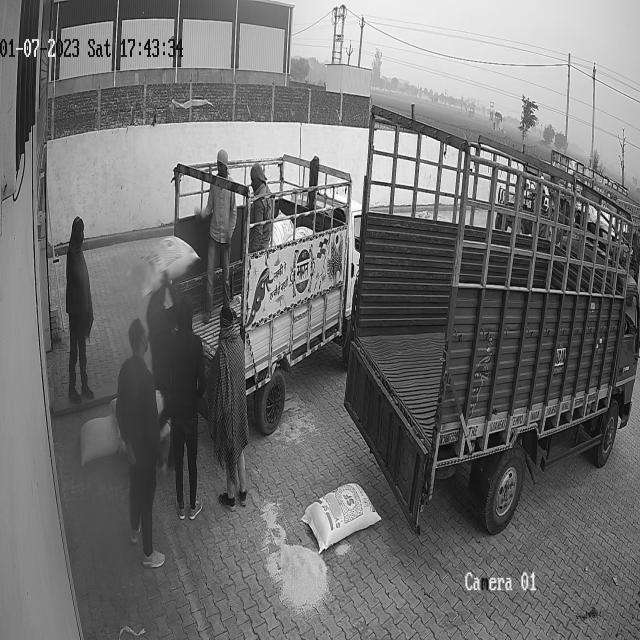sack: (302, 483, 381, 552), (132, 235, 199, 298), (80, 414, 124, 464)
